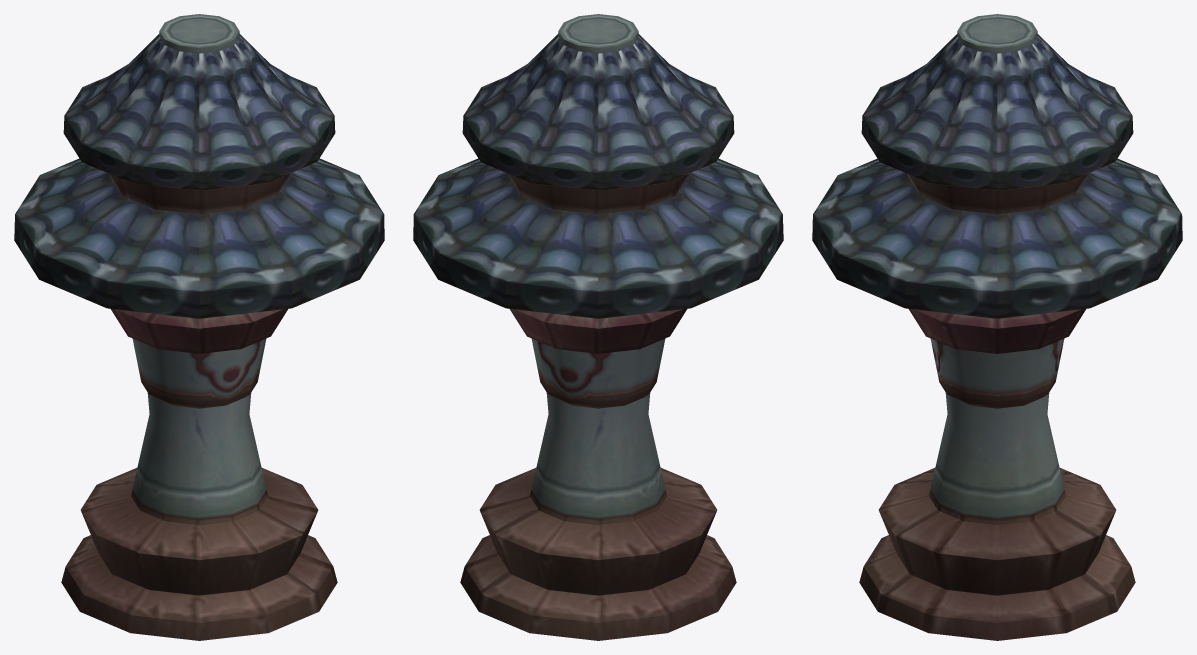
The picture shows the model from 3 angles, left to right: view 1: azimuth 30°, elevation 25°; view 2: azimuth 150°, elevation 25°; view 3: azimuth 270°, elevation 25°; orthographic projection.
Parts seen in each view (by area): view 1: MB0002_16_02; view 2: MB0002_16_02; view 3: MB0002_16_02.
Part boxes in pixels (x1,y1,x2,y2): MB0002_16_02: [14, 14, 384, 640]; MB0002_16_02: [413, 14, 783, 640]; MB0002_16_02: [812, 14, 1182, 640].
Bounding box in the file's own units: 6.49 × 10.67 × 6.49.
